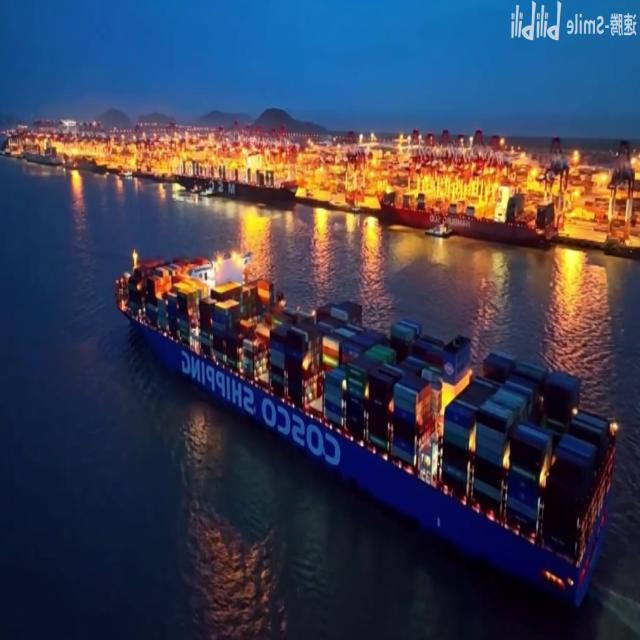cargoship: (114, 248, 628, 605)
